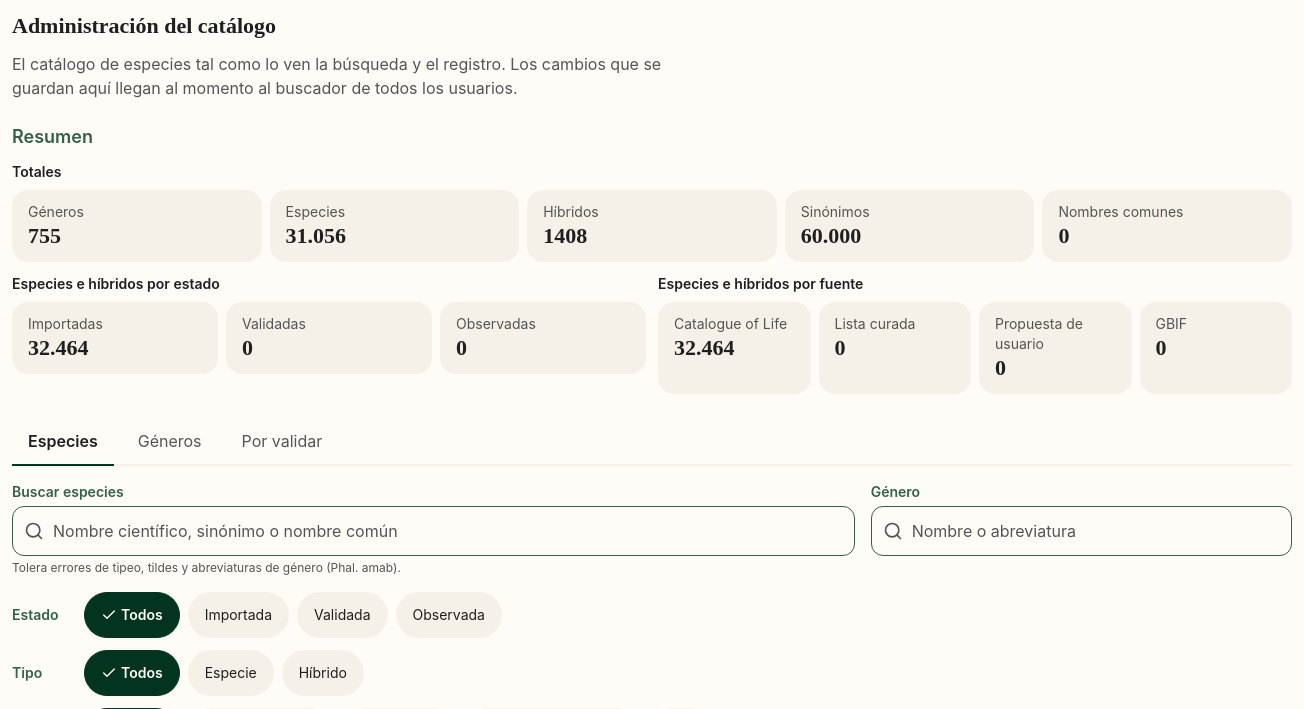
Test: CatalogAdminPage › filtra por género con el buscador de géneros
In the dropdown labelled "Género": (1081, 531) [871, 506, 1292, 556], type "phal"
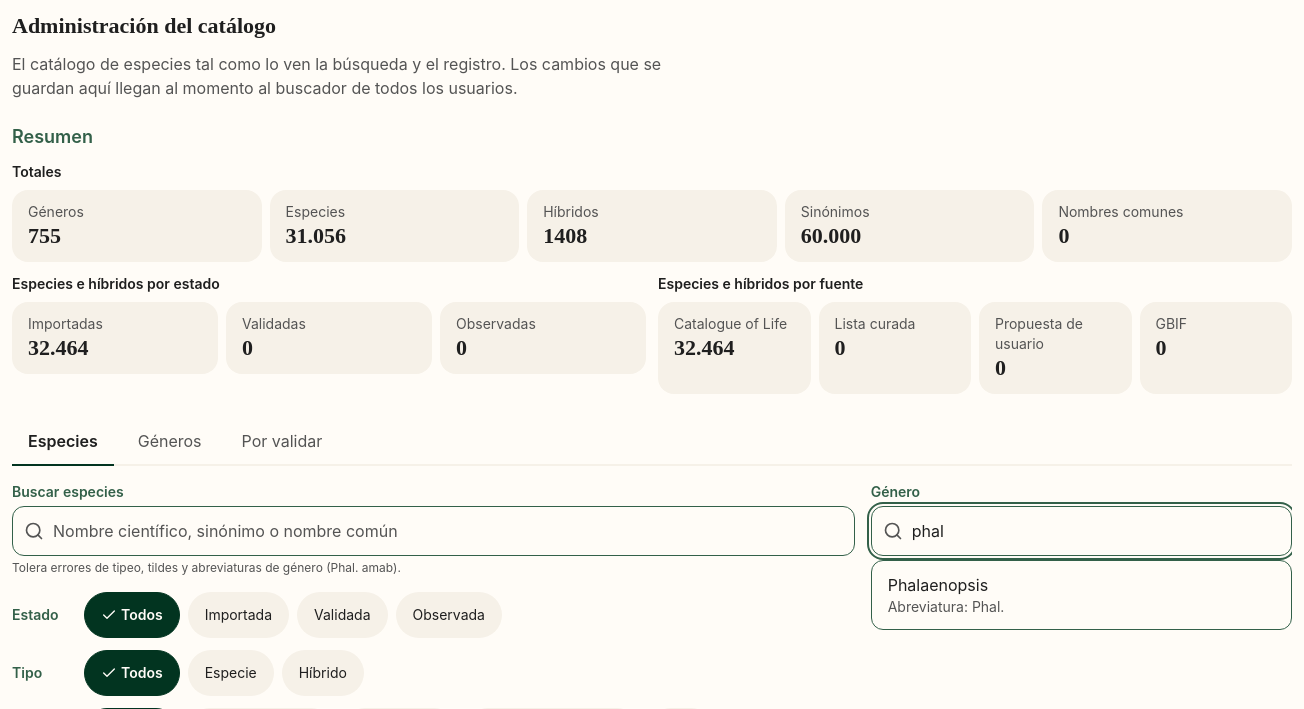
Click the option "Phalaenopsis Abreviatura: Phal.": (946, 595) [887, 575, 1004, 615]
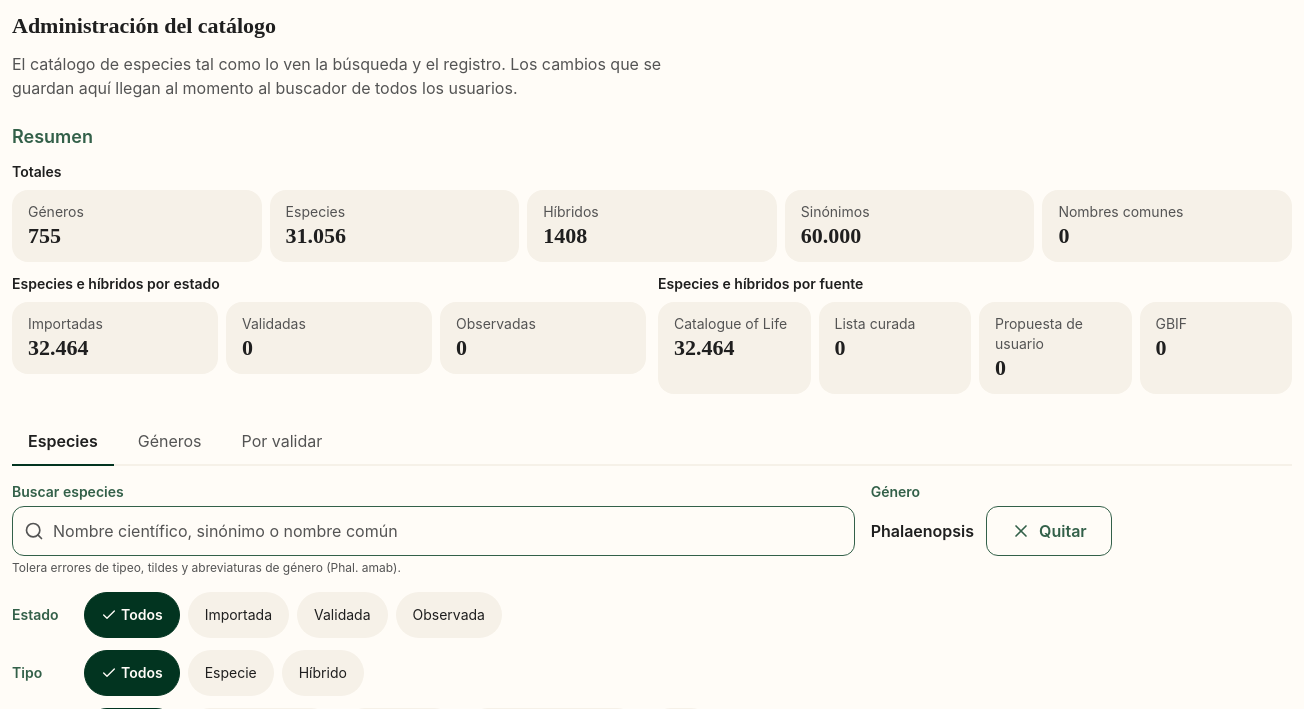
expect the text "Phalaenopsis" is shown: met, box [871, 519, 974, 543]
expect the button named "Quitar el filtro de género" is shown: met, box [986, 506, 1112, 556]
